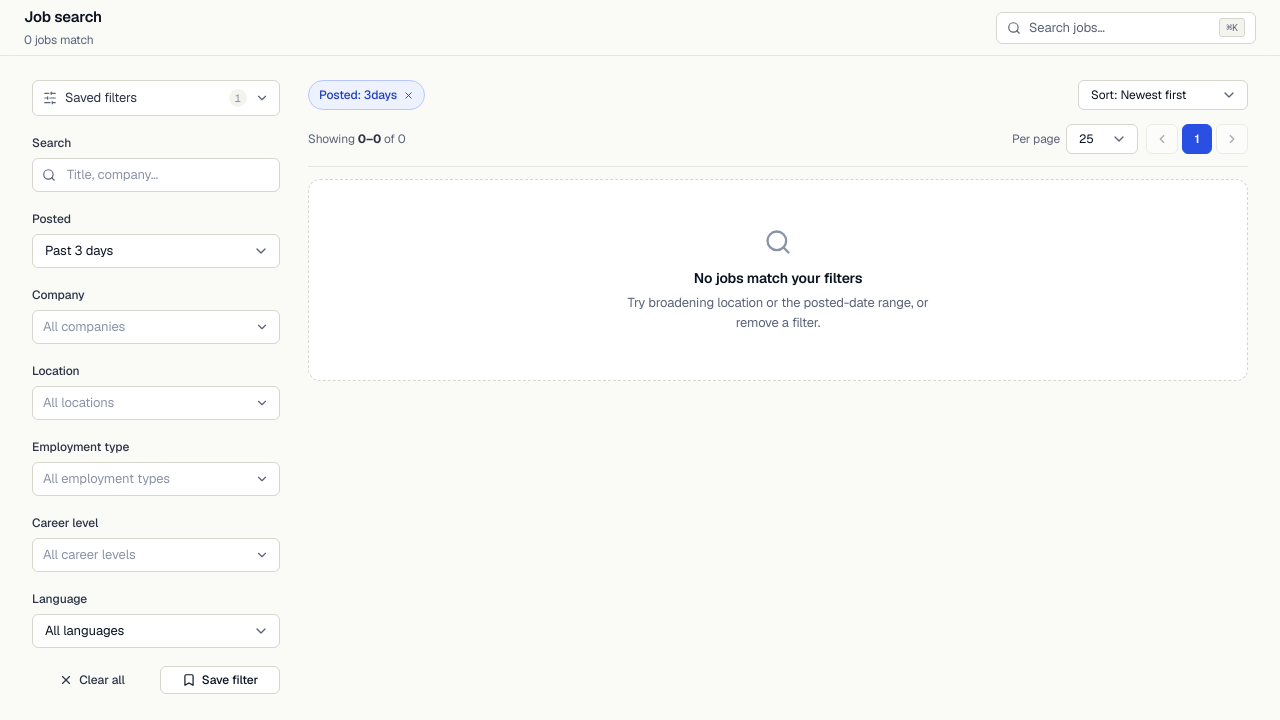
Test: saved filters loading (USE_API=true) › TC-523-D01 loads presets from listSavedFilters, not localStorage, exactly once
Click the text "Saved filters" at [101, 98], box [65, 89, 137, 106]
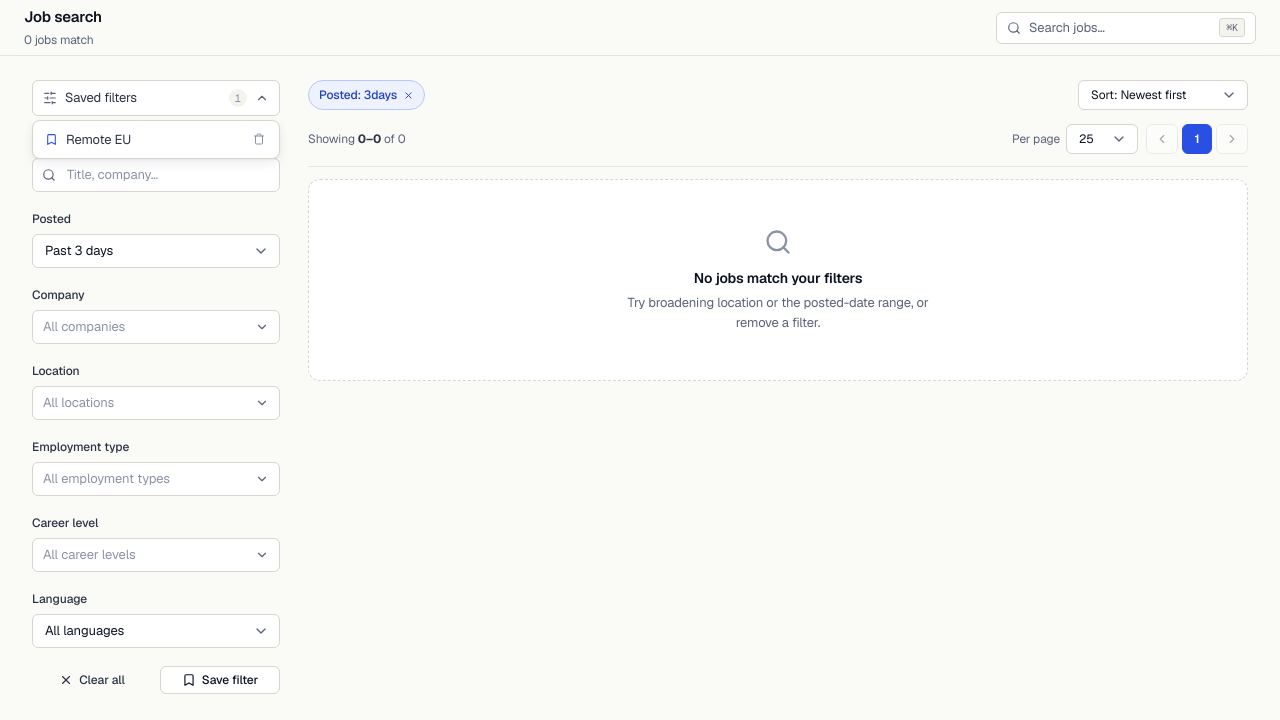
expect the text "Remote EU" is shown: met, box [66, 130, 131, 148]
